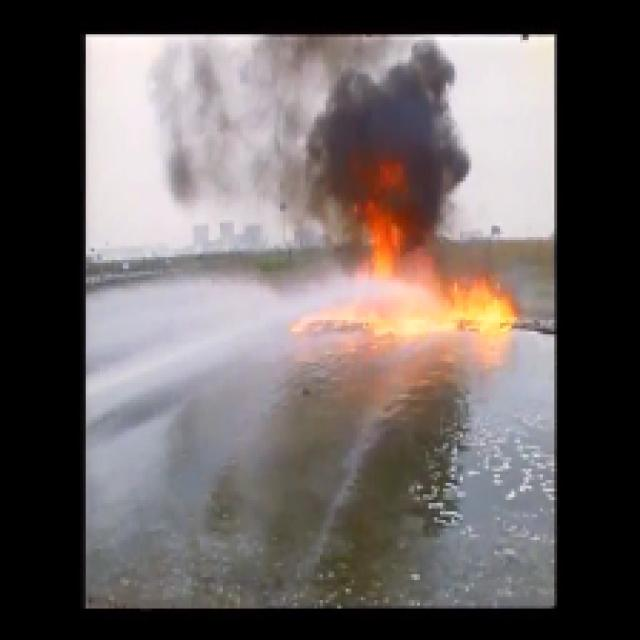fire: (450, 282, 508, 320)
smoke: (328, 92, 444, 205)
